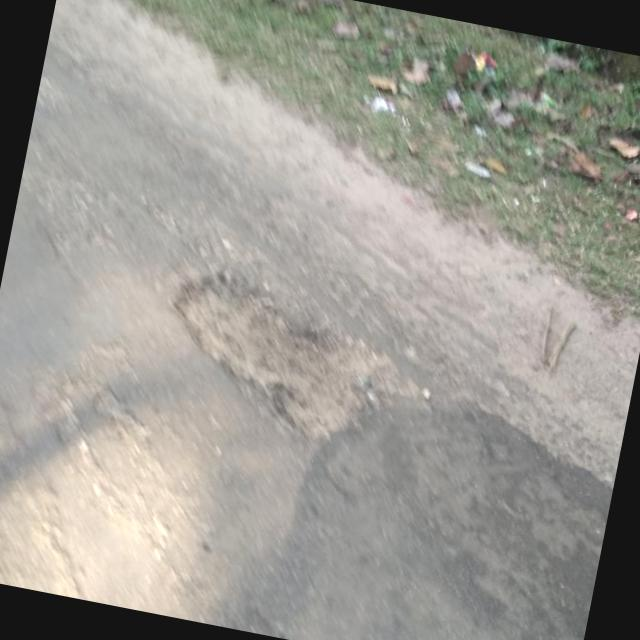Lubang: (174, 270, 391, 438)
